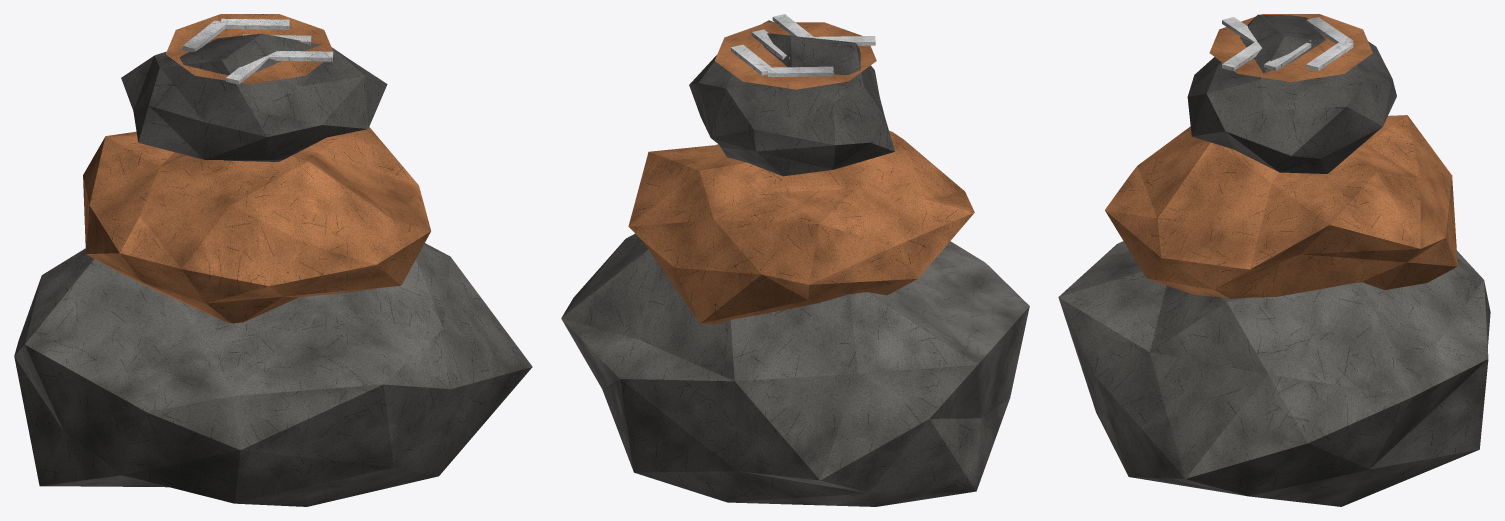
The model's file is marker_colonie.glb.
3 views of the same model, side by side, from view 1: azimuth 30°, elevation 25°; view 2: azimuth 150°, elevation 25°; view 3: azimuth 270°, elevation 25° (orthographic). The views are drawn at different scales.
Visible parts, largest first — view 1: pebble_0, pebble_2, pebble_4, marker_colonie, group_7; view 2: pebble_0, pebble_2, pebble_4, marker_colonie, group_7; view 3: pebble_0, pebble_2, pebble_4, marker_colonie, group_7.
Part boxes in pixels (x1,y1,x2,y2): pebble_0: (14, 243, 532, 506); pebble_2: (83, 127, 430, 323); pebble_4: (121, 33, 387, 161); marker_colonie: (166, 14, 334, 84); group_7: (182, 18, 333, 84); pebble_0: (561, 233, 1029, 506); pebble_2: (628, 131, 974, 324); pebble_4: (689, 20, 894, 176); marker_colonie: (714, 22, 876, 89); group_7: (731, 14, 875, 77); pebble_0: (1058, 241, 1490, 506); pebble_2: (1105, 115, 1457, 298); pebble_4: (1187, 14, 1396, 173); marker_colonie: (1209, 14, 1372, 81); group_7: (1222, 17, 1353, 71).
Size of the model in its own units: 7.63 by 7.49 by 6.76.
5 materials, 5 textured.
